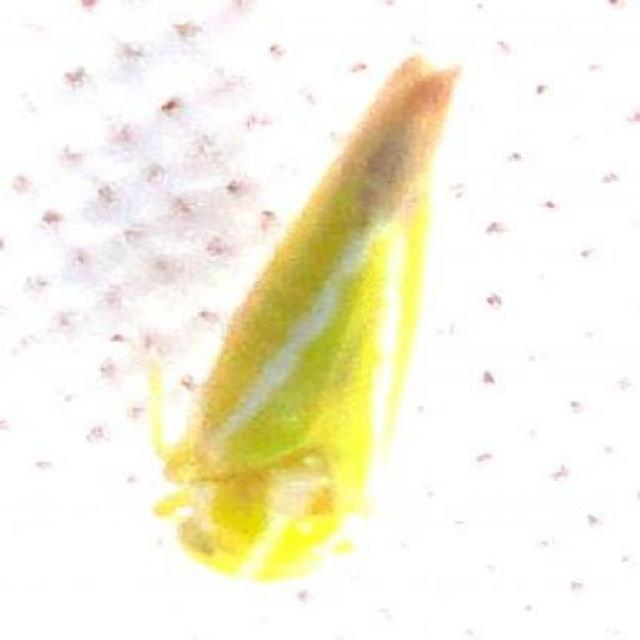green-leafhopper: (154, 59, 488, 603)
